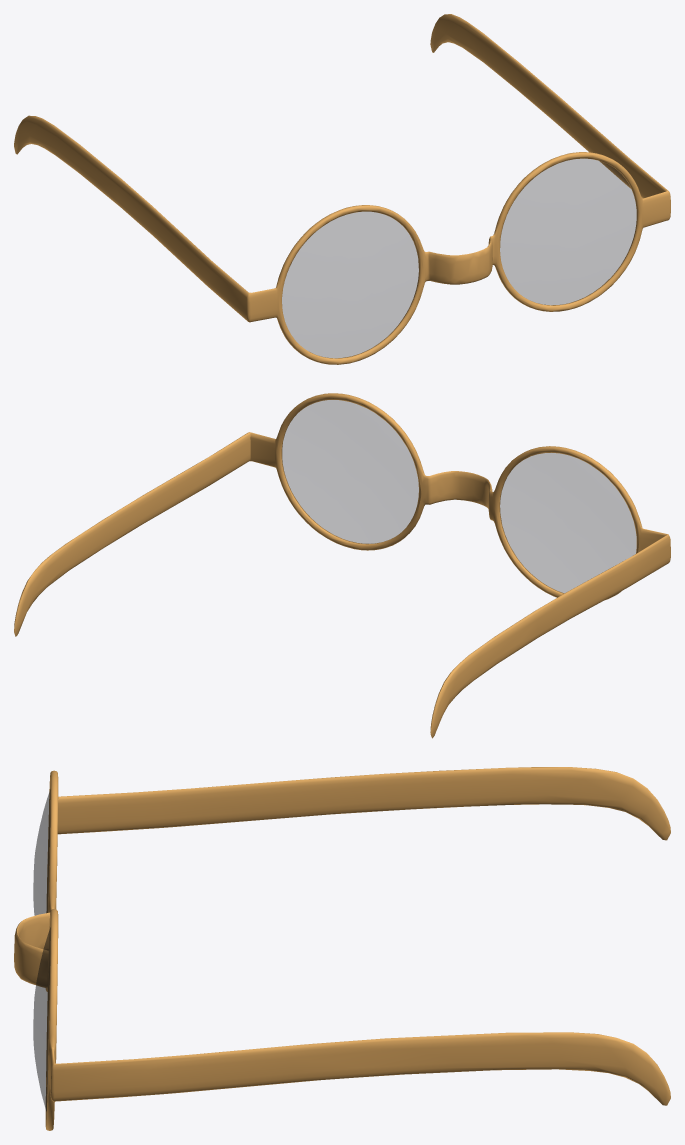
Rendered from eyewear-glasses-yellow-50d673c0.glb.
3 views of the same model, one above another, from view 1: azimuth 30°, elevation 25°; view 2: azimuth 150°, elevation 25°; view 3: azimuth 270°, elevation 25° (orthographic). The views are drawn at different scales.
Visible parts, largest first — view 1: Geo_Black_Older_Female_Glasses_Yellow.001; view 2: Geo_Black_Older_Female_Glasses_Yellow.001; view 3: Geo_Black_Older_Female_Glasses_Yellow.001.
Boxes of the visible parts, <box> form: Geo_Black_Older_Female_Glasses_Yellow.001: <box>14,14,670,364</box>; Geo_Black_Older_Female_Glasses_Yellow.001: <box>14,393,670,738</box>; Geo_Black_Older_Female_Glasses_Yellow.001: <box>14,767,670,1130</box>.
Size of the model in its own units: 1.41 by 0.4889 by 1.45.
